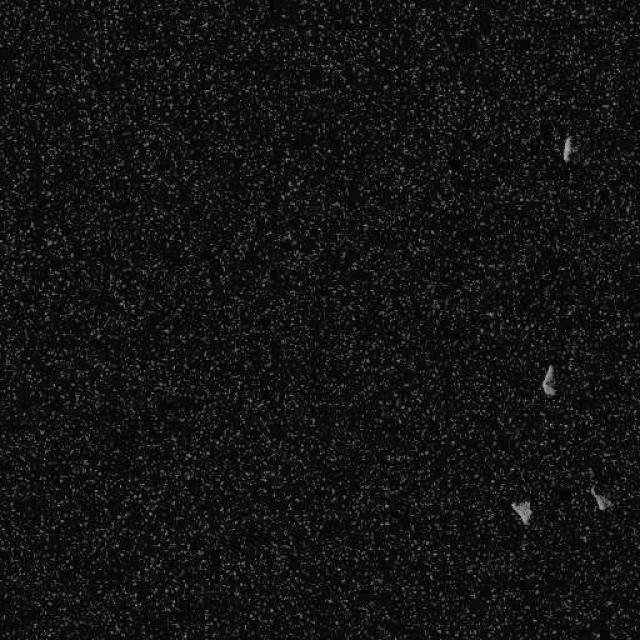D2: (588, 484, 612, 511), (540, 362, 558, 397), (510, 500, 532, 526), (561, 134, 574, 162)
